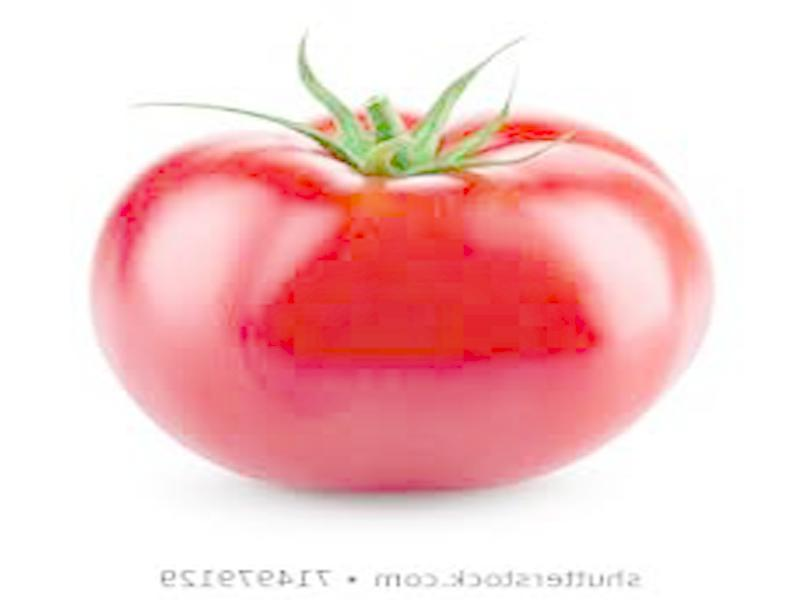Tomato: (90, 114, 715, 489)
